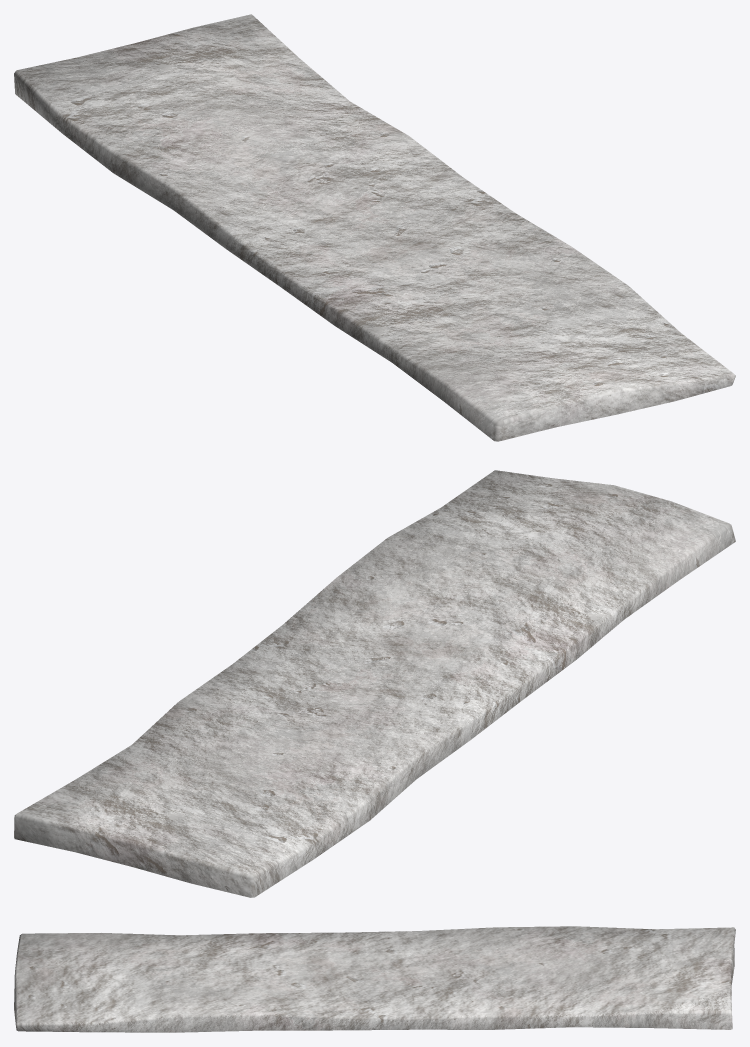
File: tile2_LOD0.FBX
3 renders of one model, top to bottom at view 1: azimuth 30°, elevation 25°; view 2: azimuth 150°, elevation 25°; view 3: azimuth 270°, elevation 25°, orthographic. The views are drawn at different scales.
Visible parts, largest first — view 1: tile2_LOD0; view 2: tile2_LOD0; view 3: tile2_LOD0.
Part boxes in pixels (x1,y1,x2,y2): tile2_LOD0: (14,14,735,441); tile2_LOD0: (14,470,735,897); tile2_LOD0: (14,926,735,1032).
Bounding box in the file's own units: 52.35 × 5.24 × 173.
